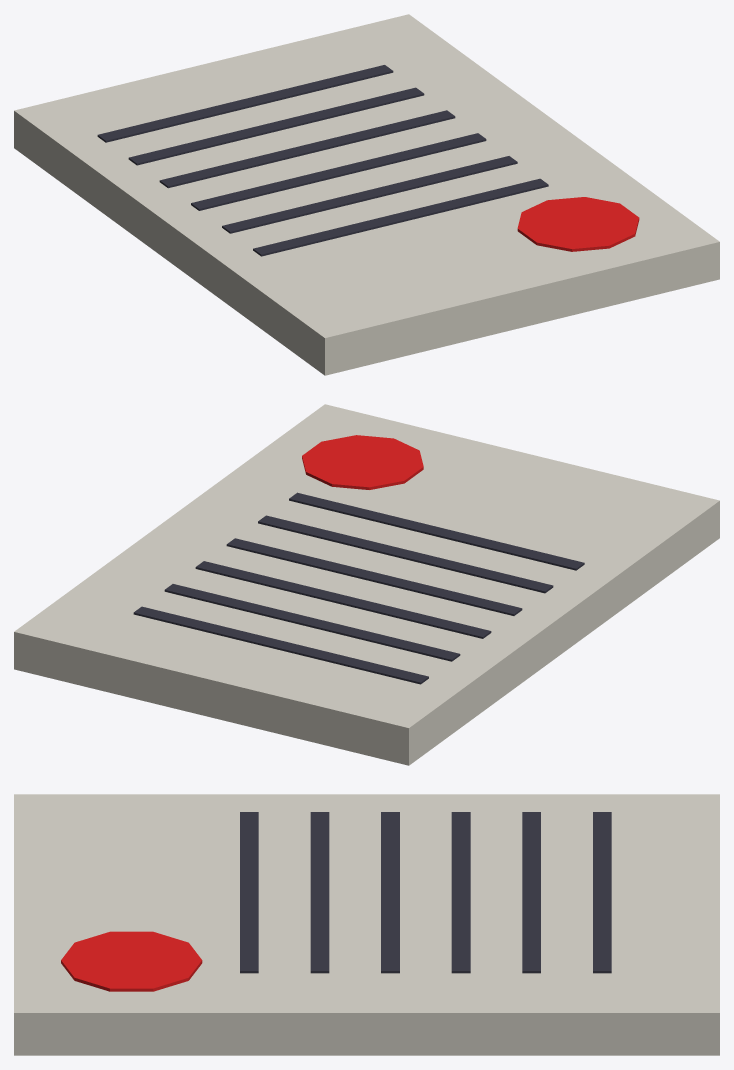
The model's file is doll_invoice.glb.
The picture shows the model from 3 angles, top to bottom: view 1: azimuth 30°, elevation 25°; view 2: azimuth 150°, elevation 25°; view 3: azimuth 270°, elevation 25°; orthographic projection. The views are drawn at different scales.
Visible parts, largest first — view 1: paper_invoice_paper, lines_invoice_ink (×6), stamp_invoice_stamp; view 2: paper_invoice_paper, lines_invoice_ink (×6), stamp_invoice_stamp; view 3: paper_invoice_paper, lines_invoice_ink (×6), stamp_invoice_stamp.
Part boxes in pixels (x1=…): paper_invoice_paper: x1=14, y1=14, x2=719, y2=375; lines_invoice_ink (×6): x1=97, y1=65, x2=548, y2=256; stamp_invoice_stamp: x1=517, y1=197, x2=639, y2=251; paper_invoice_paper: x1=14, y1=404, x2=719, y2=765; lines_invoice_ink (×6): x1=133, y1=492, x2=584, y2=684; stamp_invoice_stamp: x1=302, y1=435, x2=423, y2=489; paper_invoice_paper: x1=14, y1=794, x2=719, y2=1055; lines_invoice_ink (×6): x1=240, y1=812, x2=611, y2=973; stamp_invoice_stamp: x1=61, y1=931, x2=202, y2=991.
Size of the model in its own units: 0.22 by 0.023 by 0.3.
